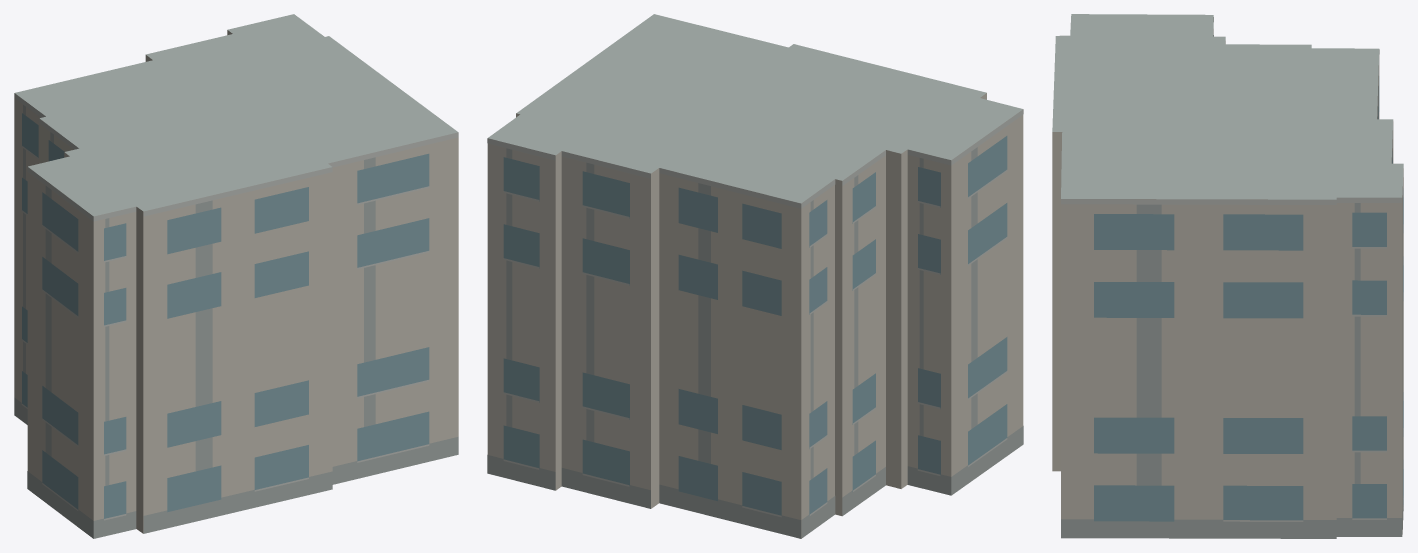
File: survey-upis-32768045.glb
3 views of the same model, side by side, from view 1: azimuth 30°, elevation 25°; view 2: azimuth 150°, elevation 25°; view 3: azimuth 270°, elevation 25° (orthographic). The views are drawn at different scales.
Parts seen in each view (by area): view 1: survey-upis-32768045.tmp; view 2: survey-upis-32768045.tmp; view 3: survey-upis-32768045.tmp.
Boxes of the visible parts, x1,y1,x2,y2 form: survey-upis-32768045.tmp: (14, 14, 458, 538); survey-upis-32768045.tmp: (487, 14, 1023, 538); survey-upis-32768045.tmp: (1052, 14, 1403, 538).
Bounding box in the file's own units: 17.91 × 15.25 × 14.33.
